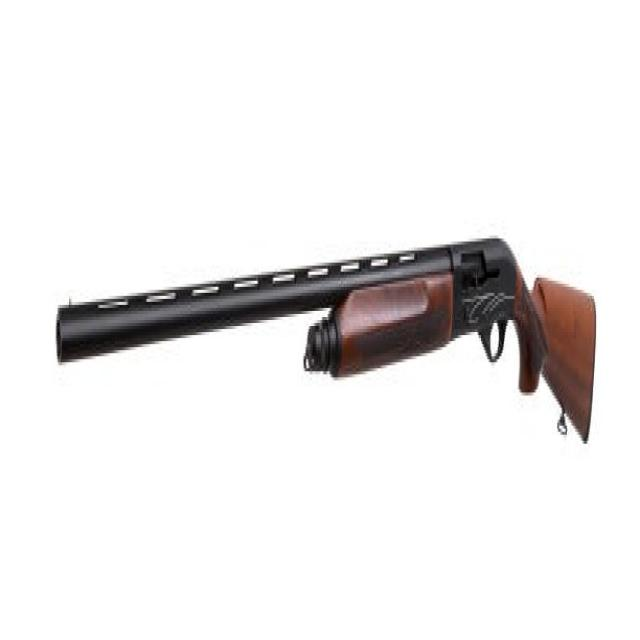rifle: (52, 228, 605, 460)
